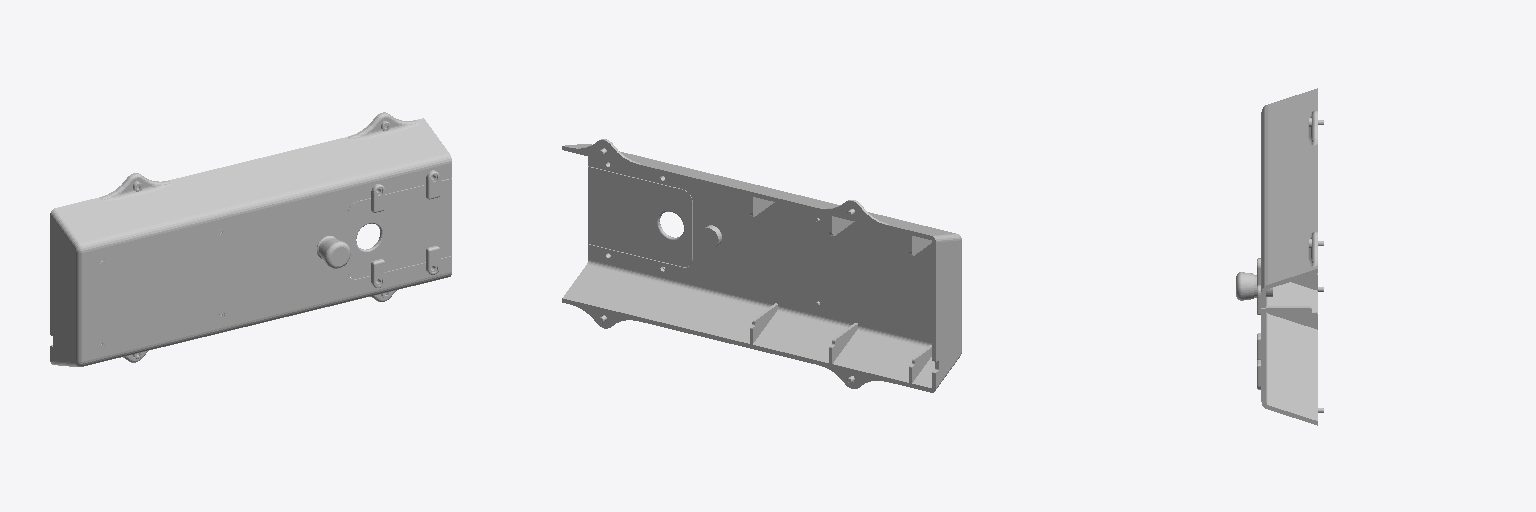
The model's file is SpotPack.obj.
3 views of the same model, side by side, from view 1: azimuth 30°, elevation 25°; view 2: azimuth 150°, elevation 25°; view 3: azimuth 270°, elevation 25° (orthographic).
Visible parts, largest first — view 1: Body6, Body1:1, Body1; view 2: Body6, Body1:1; view 3: Body6, Body1:1, Body1.
Part boxes in pixels (bbox=[...]): Body6: bbox=[50, 112, 451, 366]; Body1:1: bbox=[348, 170, 451, 287]; Body1: bbox=[317, 236, 350, 268]; Body6: bbox=[562, 139, 961, 392]; Body1:1: bbox=[588, 162, 692, 269]; Body6: bbox=[1261, 88, 1317, 425]; Body1:1: bbox=[1257, 258, 1265, 389]; Body1: bbox=[1236, 272, 1272, 300].
Bounding box in the file's own units: 37.5 × 18.03 × 7.56.